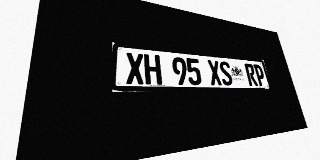5: (186, 58, 202, 85)
9: (171, 57, 189, 85)
H: (144, 54, 162, 85)
P: (253, 64, 267, 86)
R: (244, 63, 258, 86)
S: (218, 61, 234, 85)
X: (126, 52, 145, 84), (207, 60, 223, 85)
